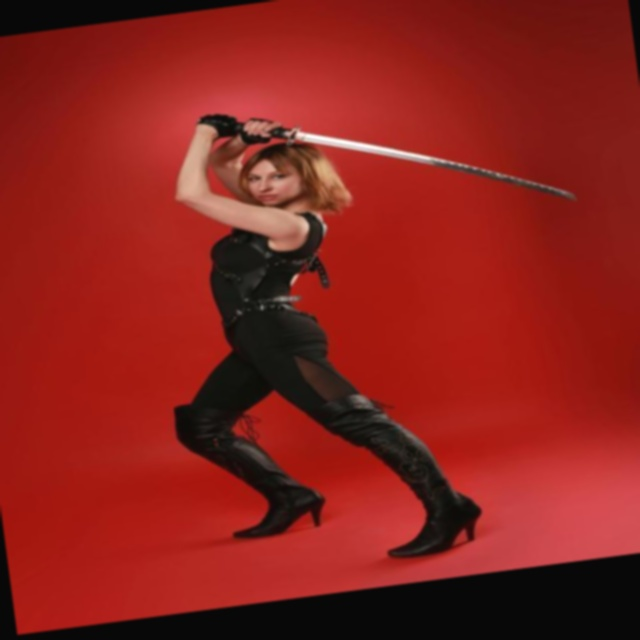Sharp-Object: (197, 58, 591, 252)
